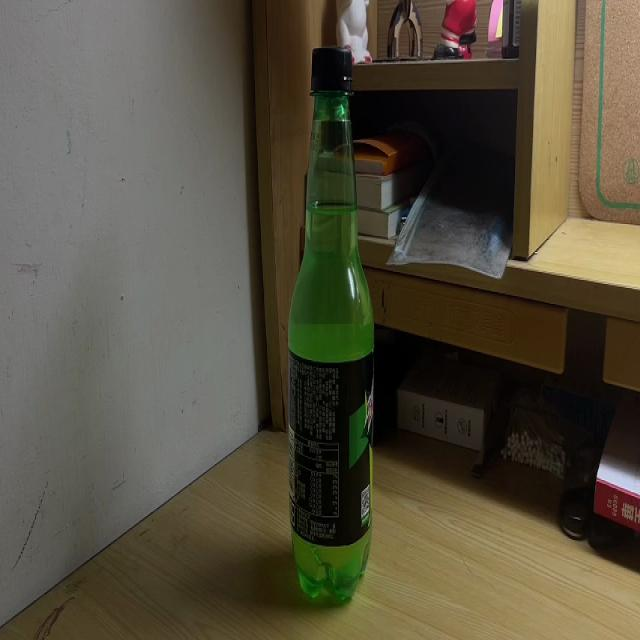Mountain-Dew: (287, 46, 374, 605)
